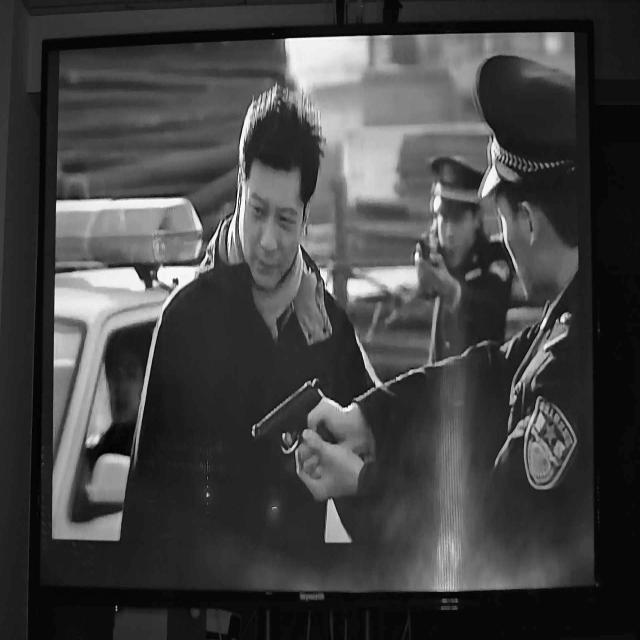Hand-Gun: (247, 362, 330, 498), (412, 226, 437, 274)
